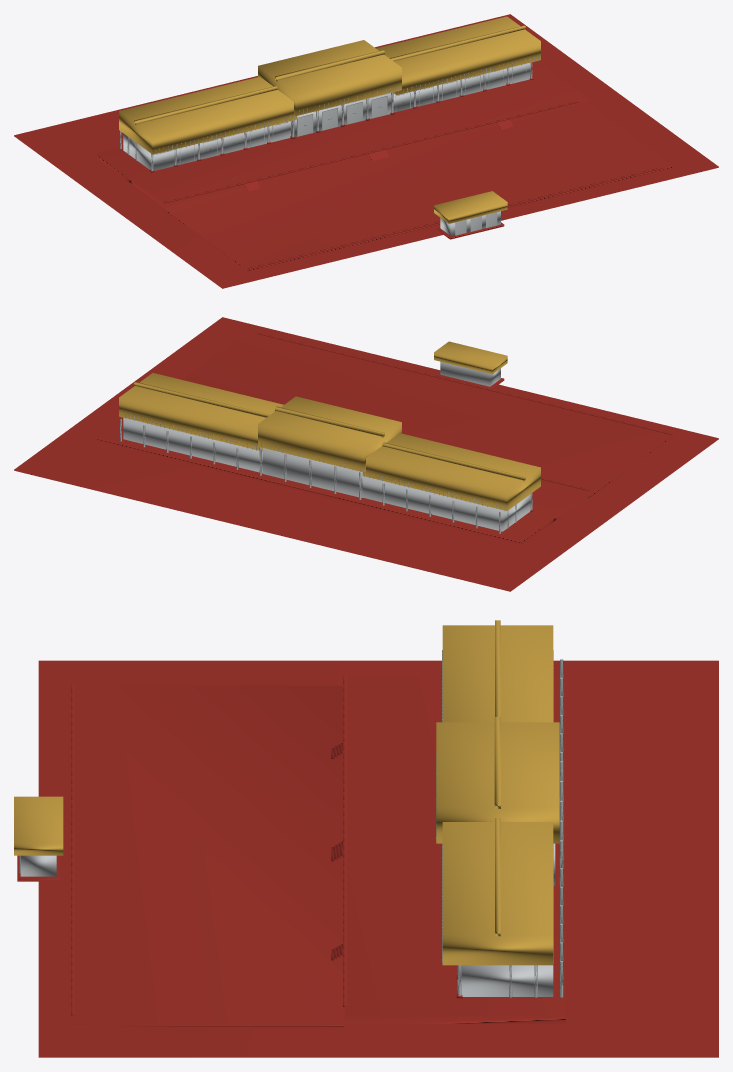
3 views of the same model, one above another, from view 1: azimuth 30°, elevation 25°; view 2: azimuth 150°, elevation 25°; view 3: azimuth 270°, elevation 25° (orthographic). The views are drawn at different scales.
Parts seen in each view (by area): view 1: yeongnyeongjeon_woldae_and_plaza, yeongnyeongjeon_stepped_matbae_roof, yeongnyeongjeon_16bays_shrine, yeongnyeongjeon_gate_roof, yeongnyeongjeon_south_gate; view 2: yeongnyeongjeon_woldae_and_plaza, yeongnyeongjeon_stepped_matbae_roof, yeongnyeongjeon_16bays_shrine, yeongnyeongjeon_gate_roof, yeongnyeongjeon_south_gate; view 3: yeongnyeongjeon_woldae_and_plaza, yeongnyeongjeon_stepped_matbae_roof, yeongnyeongjeon_16bays_shrine, yeongnyeongjeon_gate_roof, yeongnyeongjeon_south_gate.
Boxes of the visible parts, bbox=[...] form: yeongnyeongjeon_woldae_and_plaza: bbox=[14, 14, 718, 288]; yeongnyeongjeon_stepped_matbae_roof: bbox=[119, 16, 540, 154]; yeongnyeongjeon_16bays_shrine: bbox=[120, 62, 533, 172]; yeongnyeongjeon_gate_roof: bbox=[434, 191, 507, 223]; yeongnyeongjeon_south_gate: bbox=[437, 211, 504, 239]; yeongnyeongjeon_woldae_and_plaza: bbox=[14, 317, 718, 591]; yeongnyeongjeon_stepped_matbae_roof: bbox=[119, 373, 540, 510]; yeongnyeongjeon_16bays_shrine: bbox=[120, 417, 533, 533]; yeongnyeongjeon_gate_roof: bbox=[434, 341, 507, 374]; yeongnyeongjeon_south_gate: bbox=[437, 361, 504, 388]; yeongnyeongjeon_woldae_and_plaza: bbox=[38, 660, 718, 1057]; yeongnyeongjeon_stepped_matbae_roof: bbox=[436, 620, 559, 965]; yeongnyeongjeon_16bays_shrine: bbox=[456, 659, 563, 998]; yeongnyeongjeon_gate_roof: bbox=[14, 796, 63, 855]; yeongnyeongjeon_south_gate: bbox=[17, 855, 59, 881].
Bounding box in the file's own units: 110 × 12.98 × 82.9.
4 materials, 4 textured.
